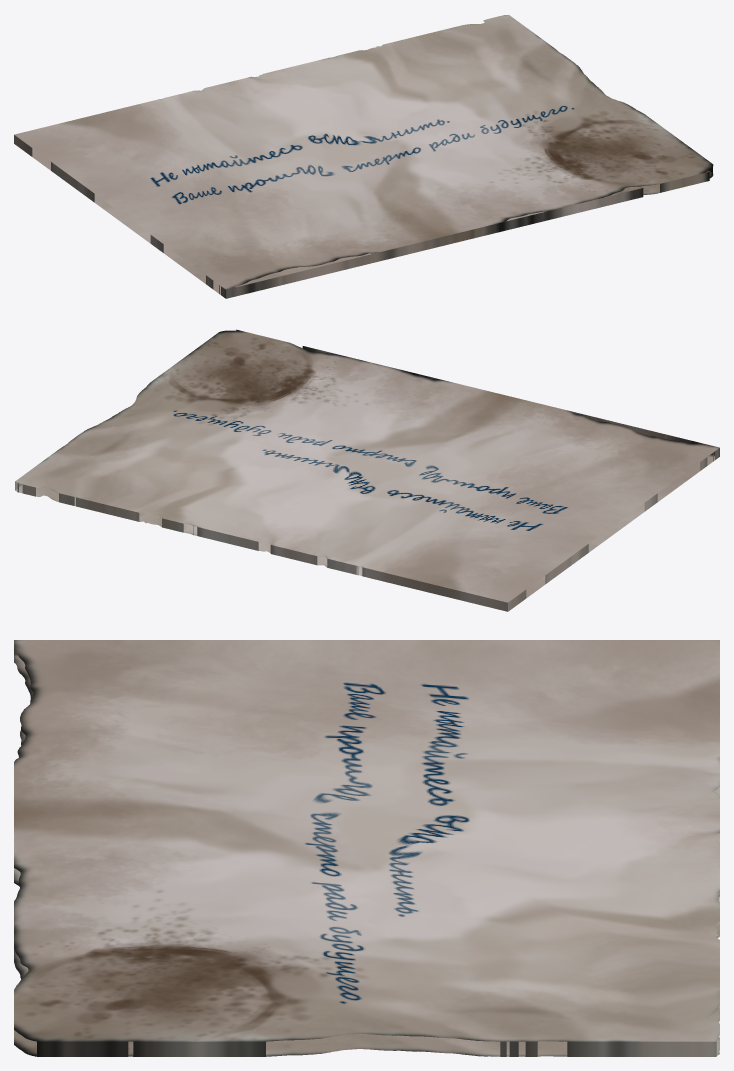
Rendered from A_note_to_the_first_level.fbx.
3 views of the same model, one above another, from view 1: azimuth 30°, elevation 25°; view 2: azimuth 150°, elevation 25°; view 3: azimuth 270°, elevation 25° (orthographic). The views are drawn at different scales.
Visible parts, largest first — view 1: A_note_to_the_first_level; view 2: A_note_to_the_first_level; view 3: A_note_to_the_first_level.
Part boxes in pixels (<box>): A_note_to_the_first_level: <box>14,15,713,298</box>; A_note_to_the_first_level: <box>15,329,719,611</box>; A_note_to_the_first_level: <box>14,640,719,1056</box>.
Size of the model in its own units: 39.55 by 0.6986 by 29.39.
